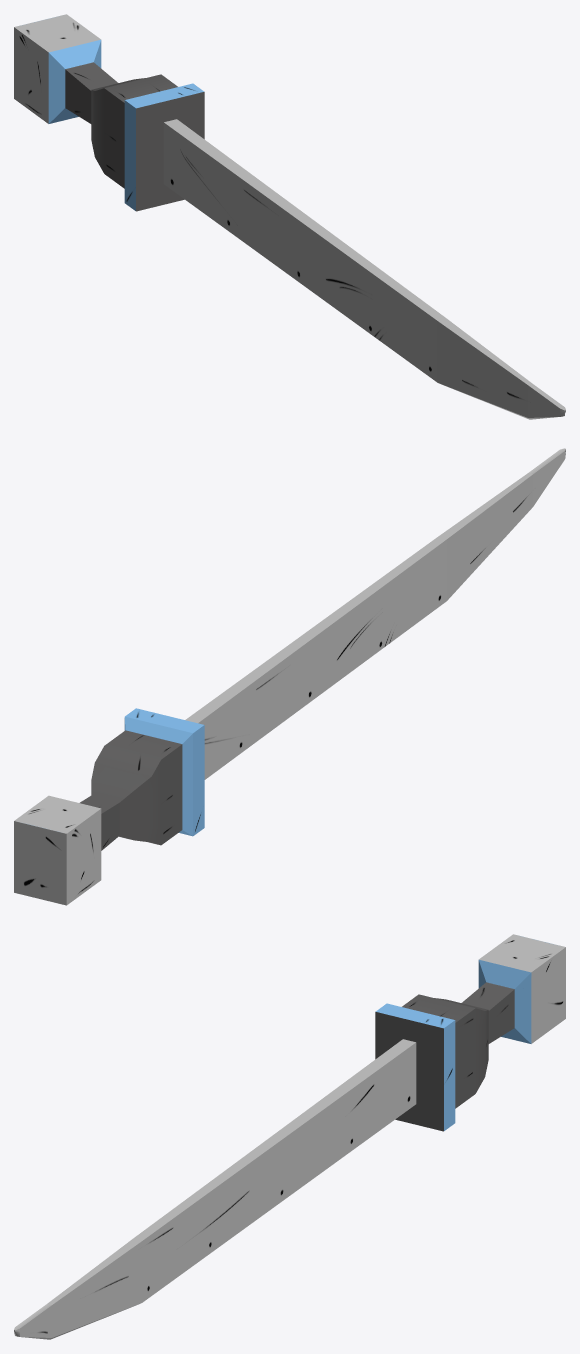
The model's file is sword.fbx.
The picture shows the model from 3 angles, top to bottom: view 1: azimuth 30°, elevation 25°; view 2: azimuth 150°, elevation 25°; view 3: azimuth 330°, elevation 25°; orthographic projection.
Parts seen in each view (by area): view 1: sword; view 2: sword; view 3: sword.
Part boxes in pixels (box(x1,y1,x2,y2)): sword: box(14, 14, 565, 419); sword: box(14, 448, 565, 905); sword: box(14, 934, 565, 1339).
Size of the model in its own units: 0.4444 by 0.6403 by 5.91.
